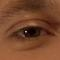eye: (25, 28, 40, 37)
